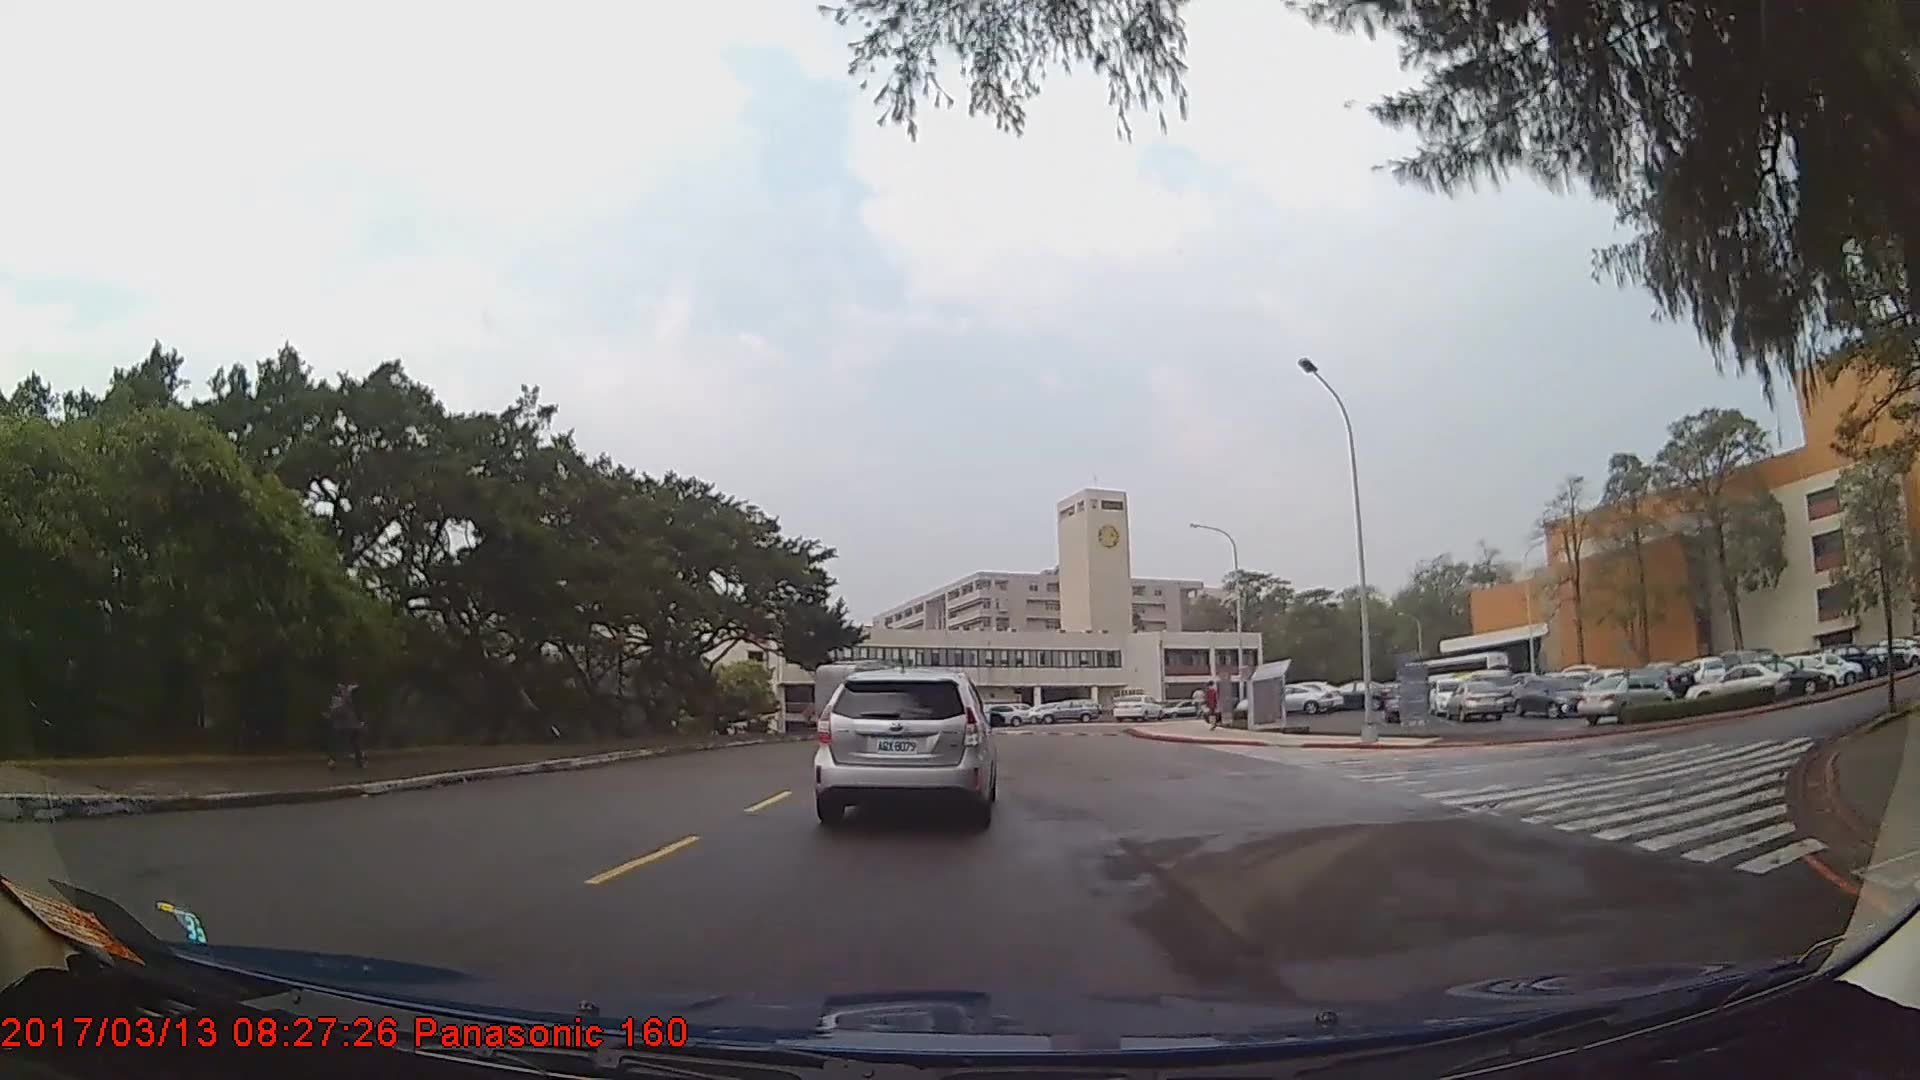pedestrian: (320, 662, 369, 771), (1202, 681, 1223, 732)
vehicle: (816, 667, 994, 825), (1578, 671, 1672, 725), (1685, 659, 1787, 707), (1735, 656, 1829, 698), (1239, 679, 1333, 715), (1514, 673, 1590, 716), (1444, 676, 1506, 722), (1111, 691, 1161, 723), (1039, 698, 1098, 723), (973, 701, 1032, 726)
